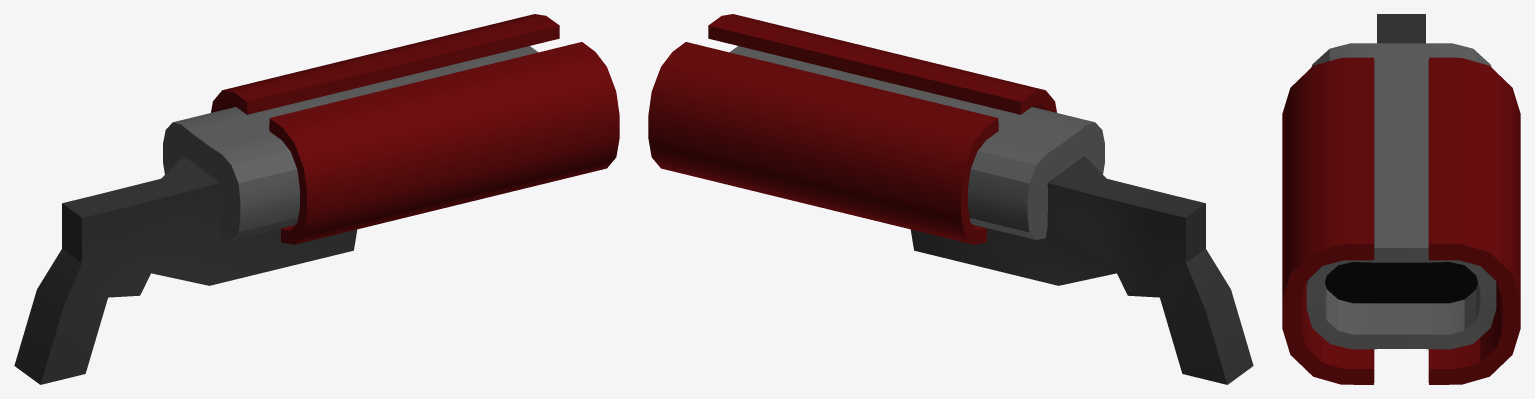
Rendered from final_shotgun_1.fbx.
The picture shows the model from 3 angles, left to right: view 1: azimuth 30°, elevation 25°; view 2: azimuth 150°, elevation 25°; view 3: azimuth 270°, elevation 25°; orthographic projection. The views are drawn at different scales.
Visible parts, largest first — view 1: Cube; view 2: Cube; view 3: Cube.
Boxes of the visible parts, <box> form: Cube: <box>14,14,619,384</box>; Cube: <box>648,14,1253,384</box>; Cube: <box>1282,14,1520,384</box>.
Bounding box in the file's own units: 2407 × 885 × 748.
